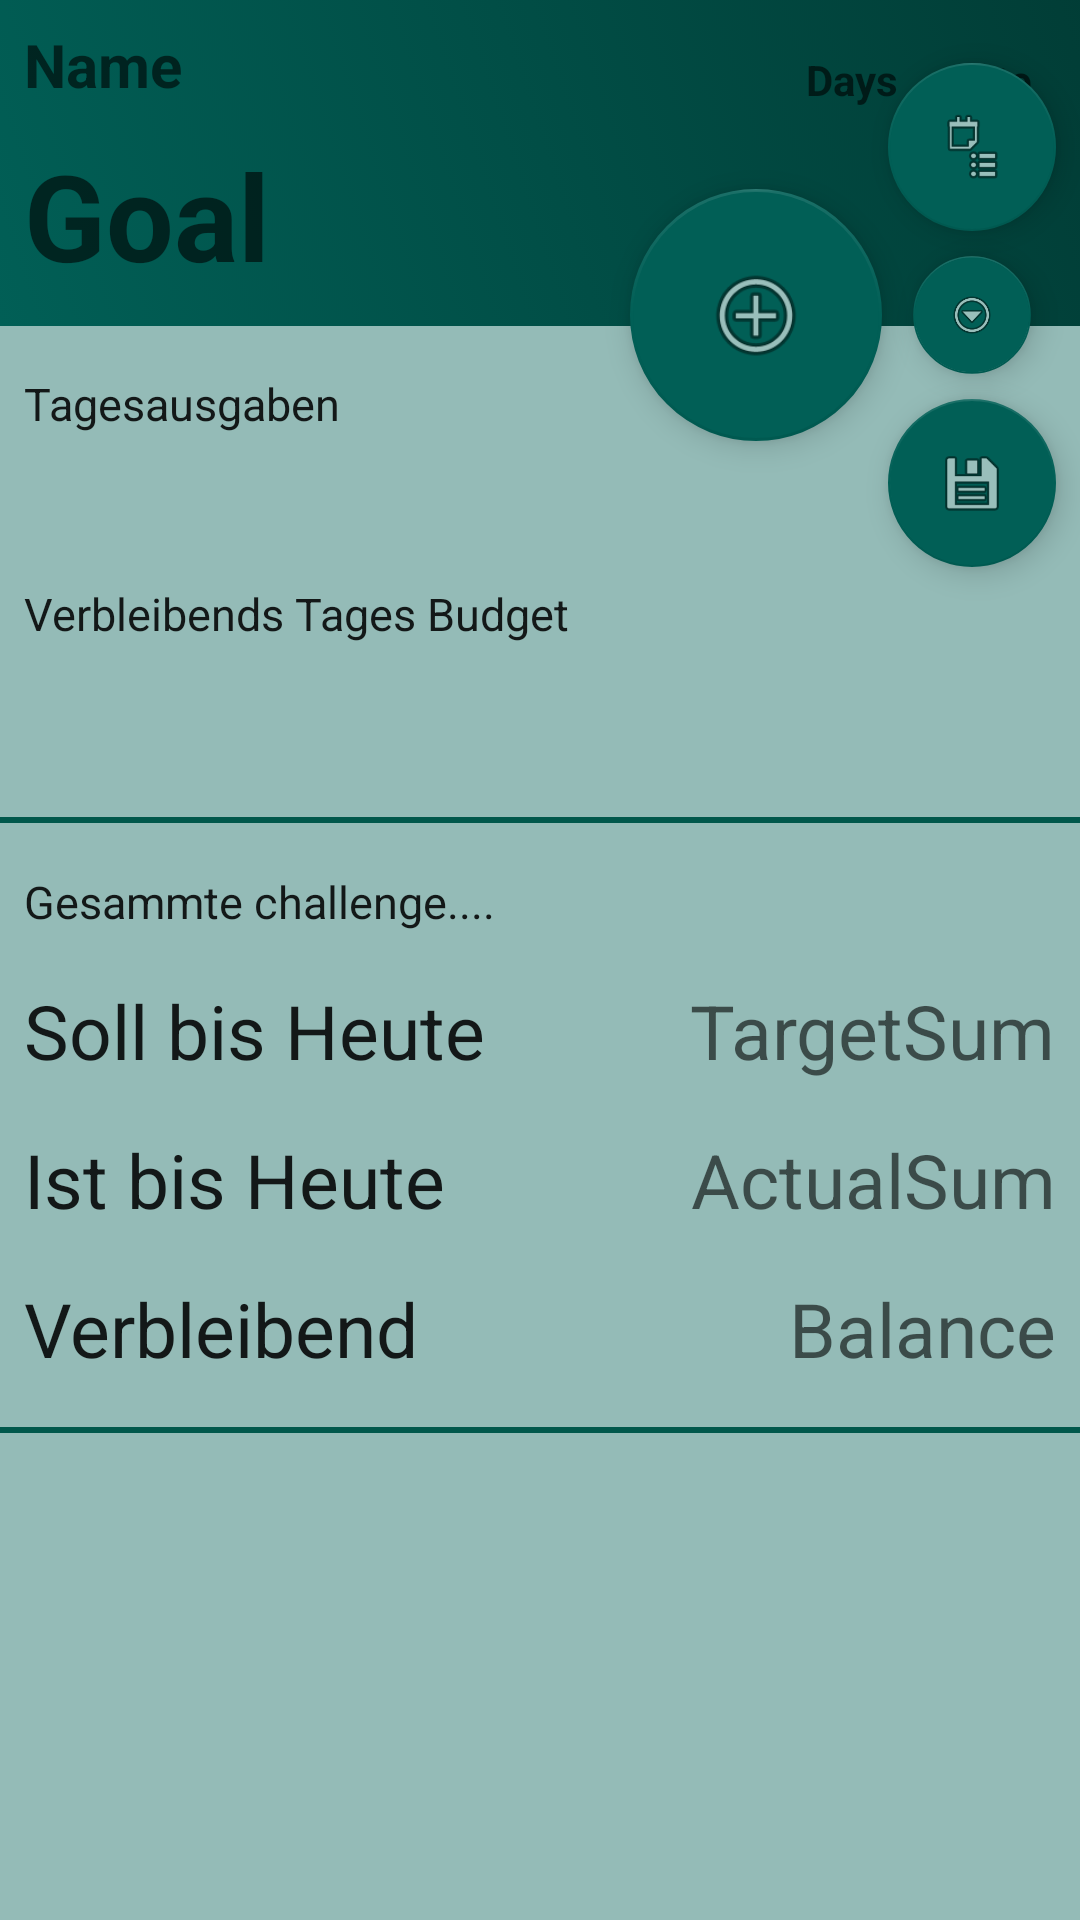

Icons on this 1080px×1920px Android screen, each with the point to tap as point (x, y):
agenda: point (972, 147)
save: point (972, 483)
